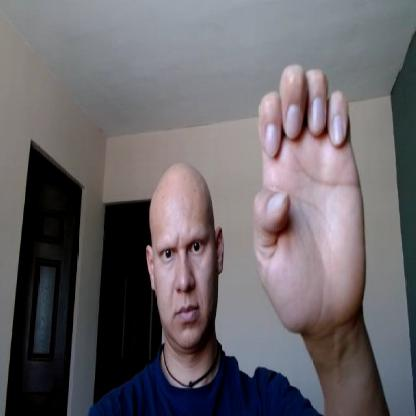E: (253, 62, 366, 328)
